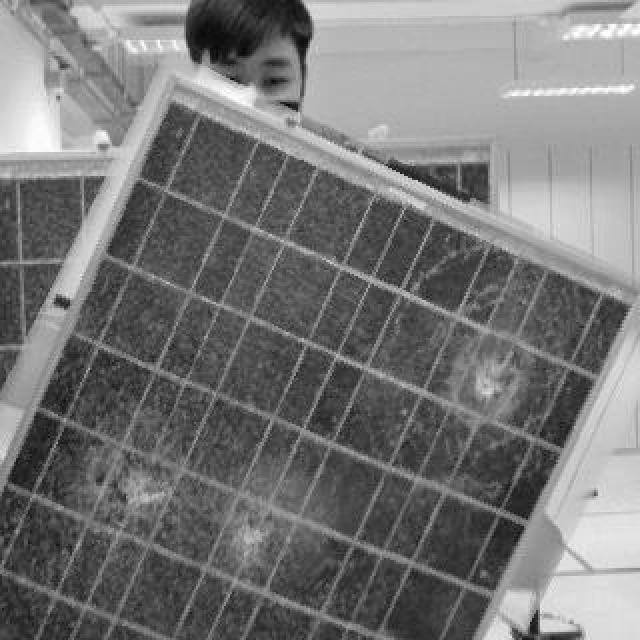Physical-damage: (65, 381, 374, 640), (369, 232, 585, 497)
